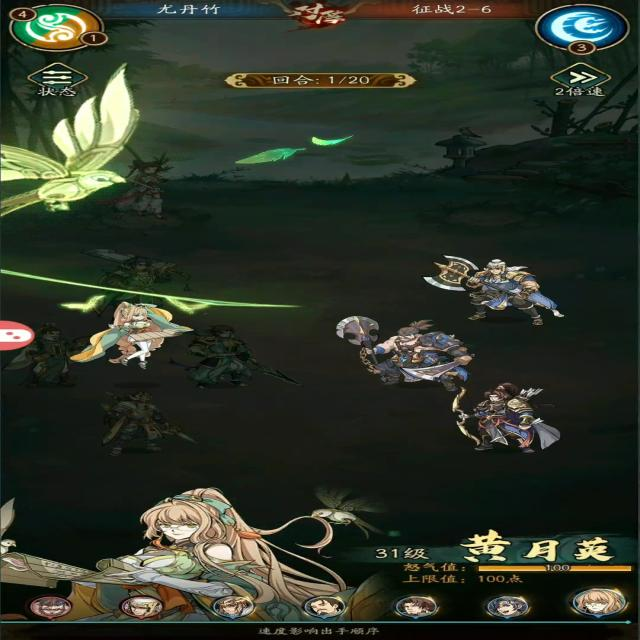hint-guide: (251, 619, 393, 638)
operation-fightspeed: (540, 64, 620, 102)
operation-status: (30, 56, 109, 104)
